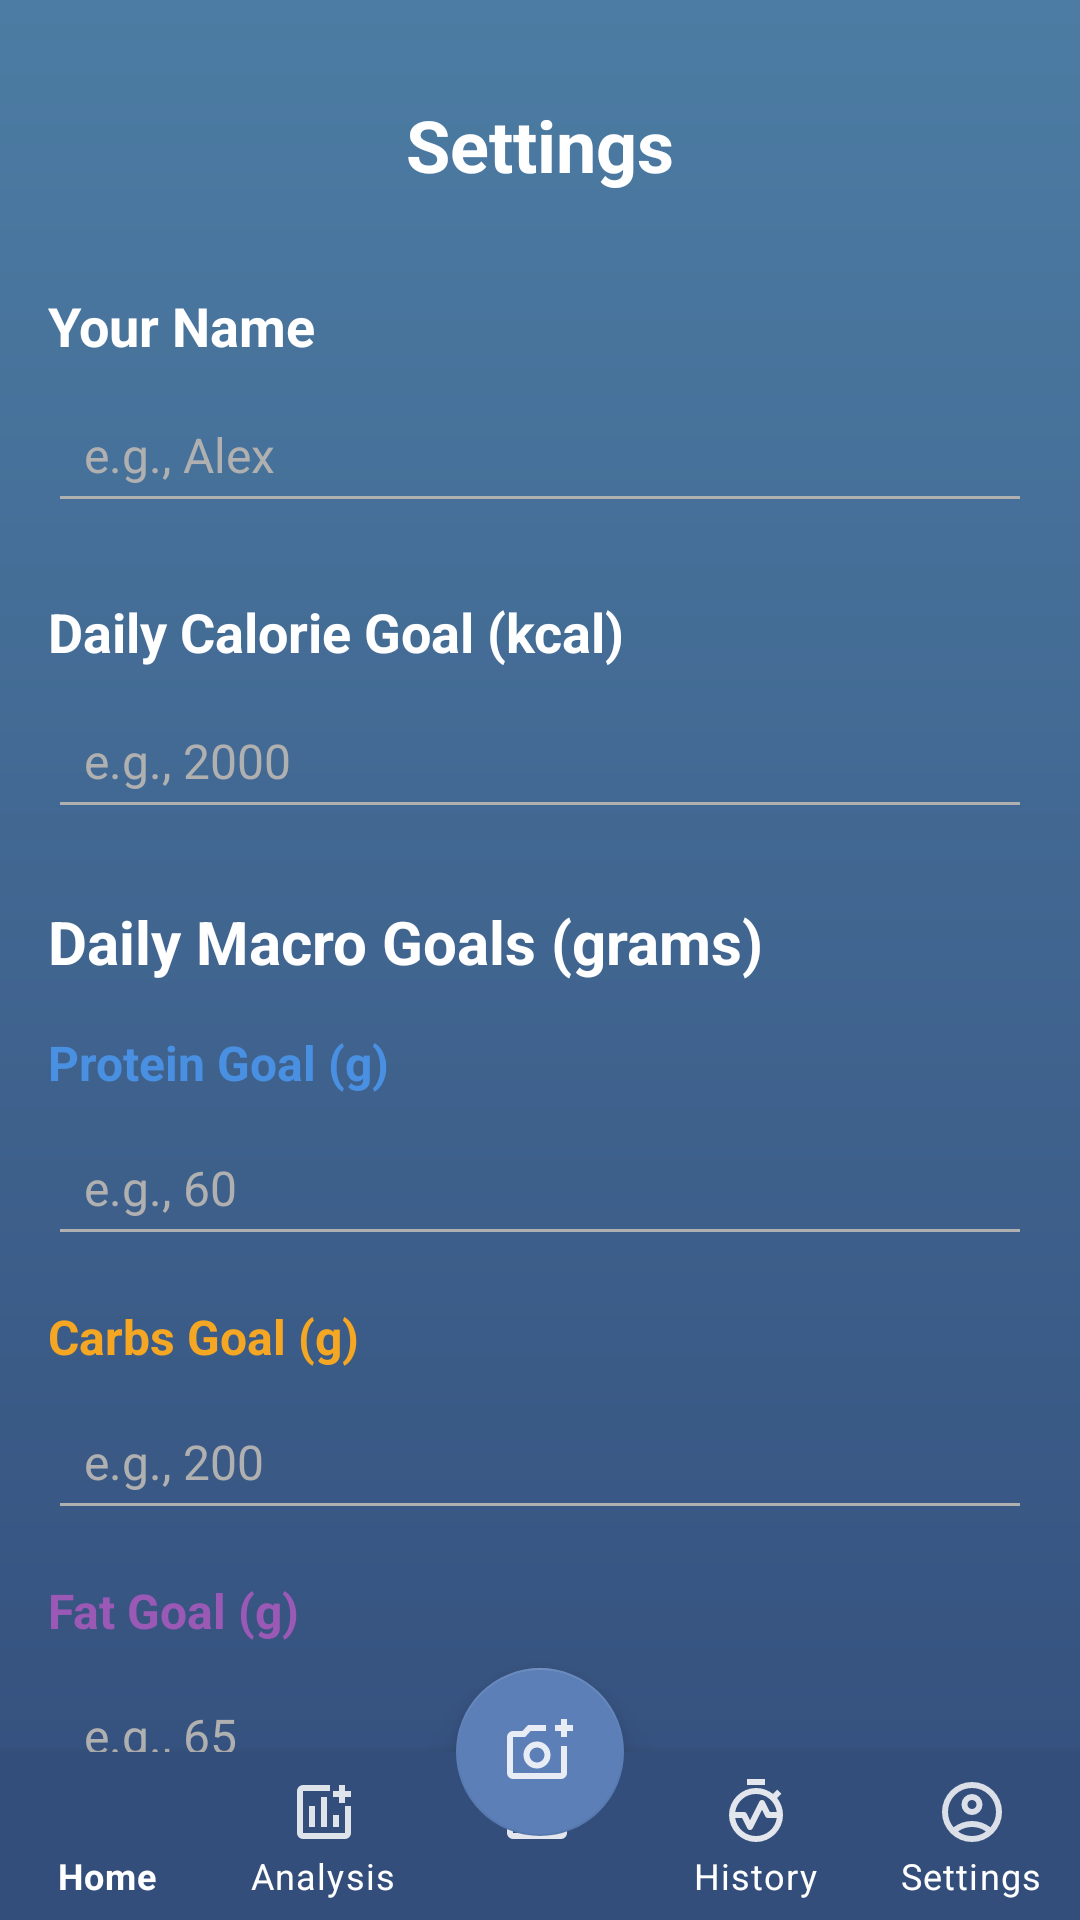

Screen size 1080x1920. Icon name, then its center in pixels as (x,y):
Camera: (540,1752)
